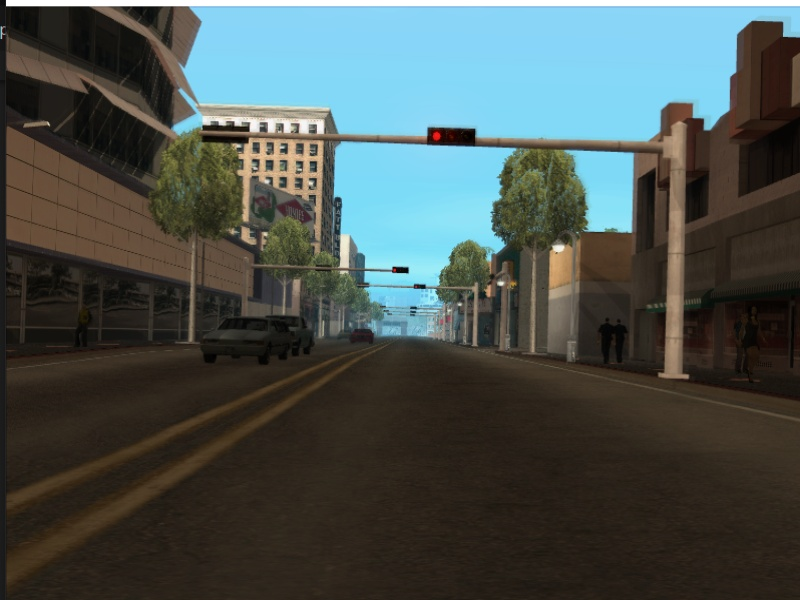person: (740, 307, 765, 385), (597, 315, 612, 365), (616, 315, 631, 365)
pole: (657, 123, 699, 382), (185, 218, 201, 345), (469, 282, 486, 350), (242, 255, 253, 317)
vehicle: (196, 309, 288, 372), (350, 327, 376, 346)
